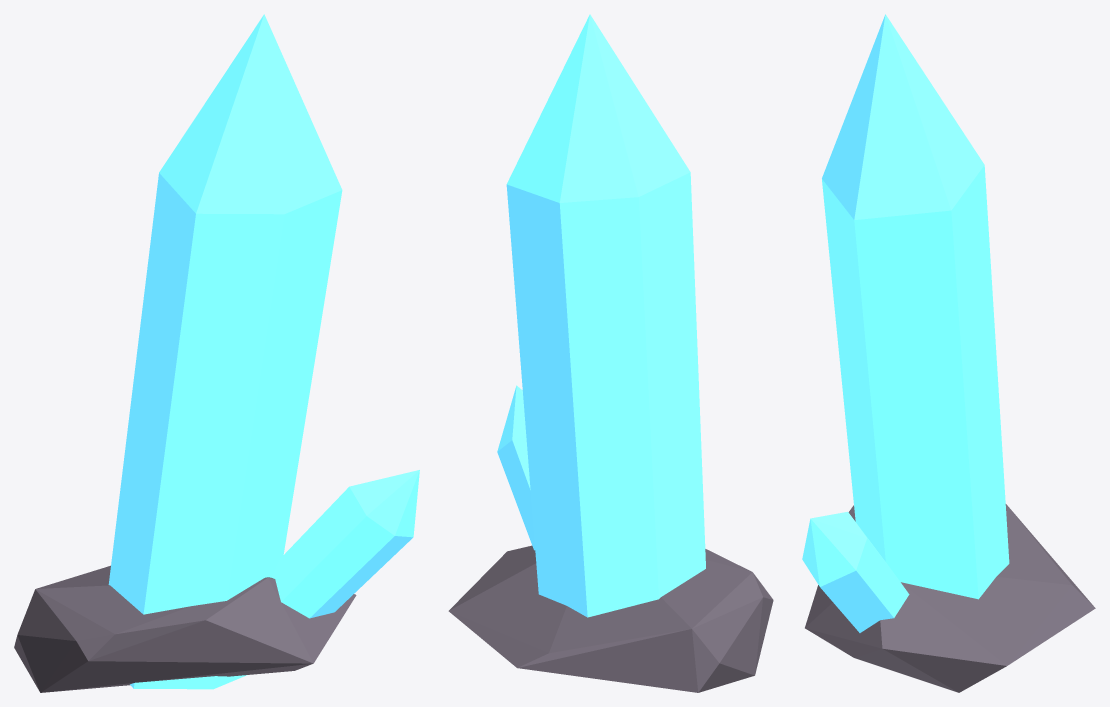
Rendered from Crystal_Single_Blue.glb.
3 renders of one model, left to right at view 1: azimuth 30°, elevation 25°; view 2: azimuth 150°, elevation 25°; view 3: azimuth 270°, elevation 25°, orthographic. The views are drawn at different scales.
Parts seen in each view (by area): view 1: Crystal_Single_blue; view 2: Crystal_Single_blue; view 3: Crystal_Single_blue.
Boxes of the visible parts, bbox=[...] form: Crystal_Single_blue: bbox=[14, 14, 419, 692]; Crystal_Single_blue: bbox=[448, 14, 773, 692]; Crystal_Single_blue: bbox=[802, 14, 1095, 692].
Size of the model in its own units: 0.4129 by 0.8165 by 0.3359.
